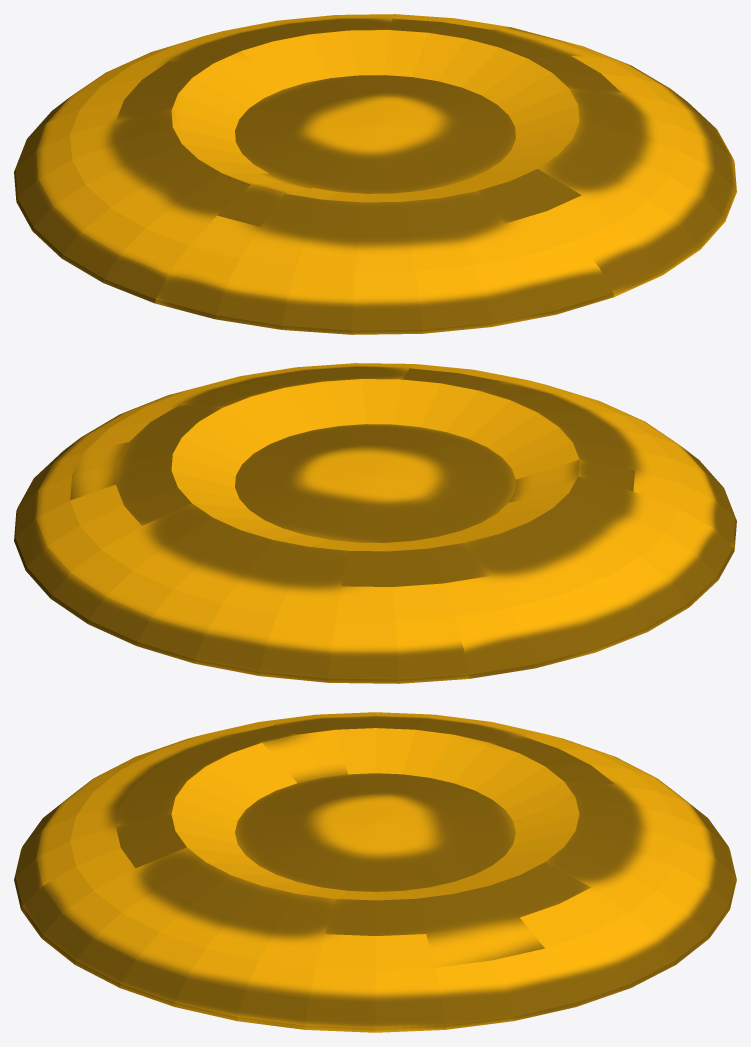
The model's file is eco_base.obj.
The picture shows the model from 3 angles, top to bottom: view 1: azimuth 30°, elevation 25°; view 2: azimuth 150°, elevation 25°; view 3: azimuth 270°, elevation 25°; orthographic projection.
Visible parts, largest first — view 1: Sphere; view 2: Sphere; view 3: Sphere.
Part boxes in pixels (x1,y1,x2,y2): Sphere: [14, 14, 736, 334]; Sphere: [14, 363, 736, 683]; Sphere: [14, 712, 736, 1032].
Bounding box in the file's own units: 1.97 × 0.1976 × 1.97.
1 material, 1 textured.
